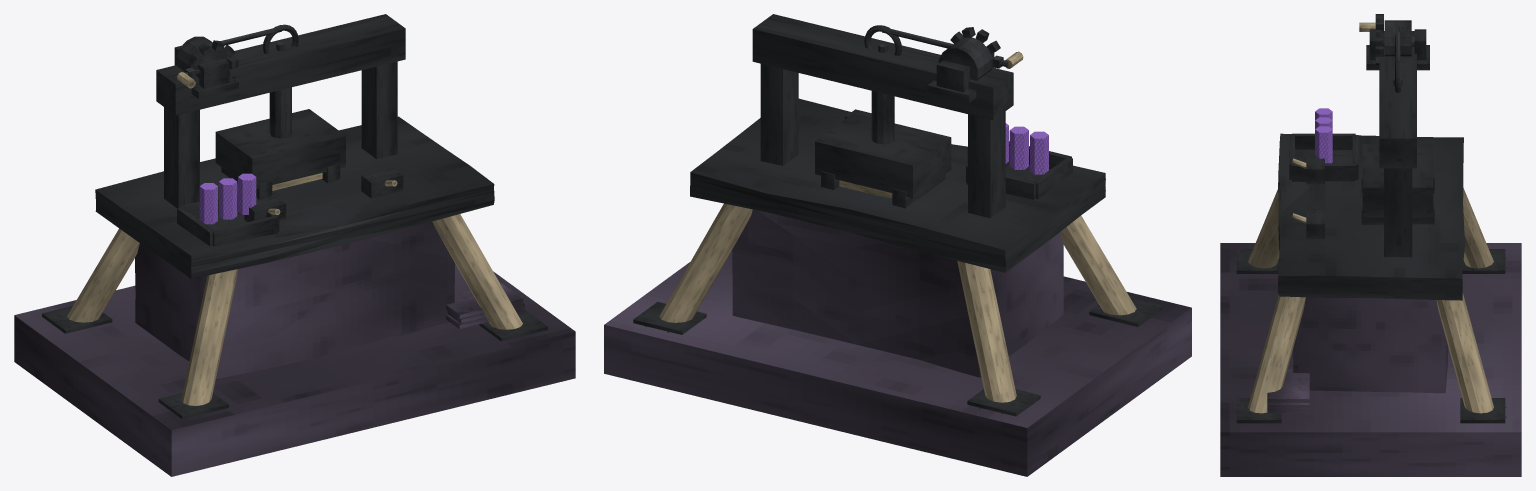
The model's file is underworld-station-anchor-forge.glb.
The picture shows the model from 3 angles, left to right: view 1: azimuth 30°, elevation 25°; view 2: azimuth 150°, elevation 25°; view 3: azimuth 270°, elevation 25°; orthographic projection. The views are drawn at different scales.
Parts seen in each view (by area): view 1: shardstone-bed, anvil-monolith, anvil-cap, press-bridge, press-hammer, titanbone-brace--1--1, titanbone-brace-1--1, press-guide-1, press-guide--1, titanbone-brace--1-1, prism-setting-tray-end--1, press-ram (+12 smaller); view 2: shardstone-bed, anvil-monolith, anvil-cap, press-bridge, press-hammer, titanbone-brace--1-1, titanbone-brace-1-1, press-guide--1, press-guide-1, titanbone-brace--1--1, winch-drum, press-ram (+8 smaller); view 3: shardstone-bed, anvil-cap, anvil-monolith, press-bridge, titanbone-brace-1-1, titanbone-brace-1--1, press-hammer, press-guide-1, titanbone-brace--1--1, titanbone-brace--1-1, shardstone-block-stock-layer-2, winch-drum (+12 smaller).
Boxes of the visible parts, x1,y1,x2,y2 form: shardstone-bed: (14,263,575,476); anvil-monolith: (135,221,454,378); anvil-cap: (95,116,494,278); press-bridge: (156,14,405,115); press-hammer: (215,109,345,188); titanbone-brace--1--1: (181,269,238,405); titanbone-brace-1--1: (432,214,522,329); press-guide-1: (361,61,397,158); press-guide--1: (164,107,199,208); titanbone-brace--1-1: (67,228,139,322); prism-setting-tray-end--1: (211,216,277,246); press-ram: (269,87,291,138); shardstone-bed: (604,250,1191,476); anvil-monolith: (732,209,1063,377); anvil-cap: (690,98,1105,272); press-bridge: (752,14,1013,120); press-hammer: (815,113,951,197); titanbone-brace--1-1: (957,261,1016,402); titanbone-brace-1-1: (659,203,752,322); press-guide--1: (968,111,1005,218); press-guide-1: (760,64,798,165); titanbone-brace--1--1: (1060,215,1136,315); winch-drum: (938,37,992,80); press-ram: (871,91,894,144); shardstone-bed: (1220,243,1521,476); anvil-cap: (1277,133,1464,300); anvil-monolith: (1293,297,1448,393); press-bridge: (1379,31,1416,168); titanbone-brace-1-1: (1436,293,1493,413); titanbone-brace-1--1: (1248,295,1305,413); press-hammer: (1362,144,1433,217); press-guide-1: (1384,168,1412,257); titanbone-brace--1--1: (1248,189,1279,268); titanbone-brace--1-1: (1463,188,1493,268); shardstone-block-stock-layer-2: (1267,369,1309,403); winch-drum: (1384,20,1411,56).
Size of the model in its own units: 3.8 by 3.08 by 2.56.
Materials: 4 (4 with a texture image).
